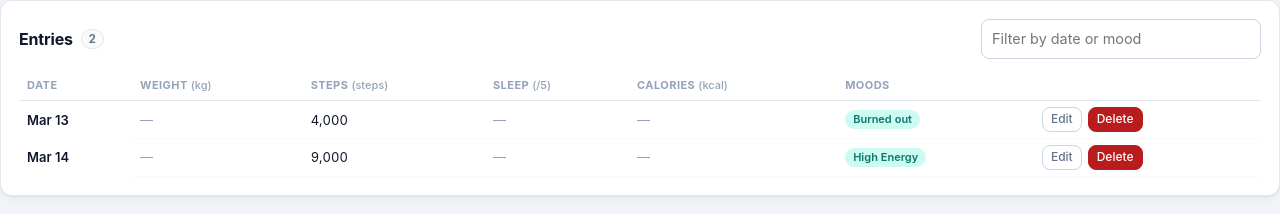
Test case: HistoryTable › filters by mood tag
The width and height of the screenshot is (1280, 214).
Type "burned" into the search field at (1121, 39), box [981,19,1261,59]
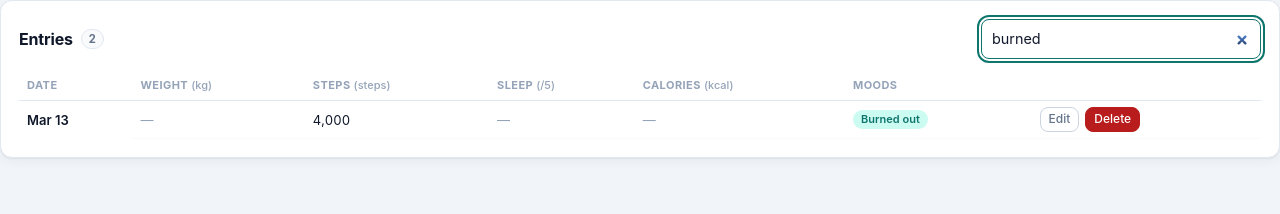
Expected: the text "Burned out" is shown, [853,110,928,129]
Expected: the text "High Energy" is gone
